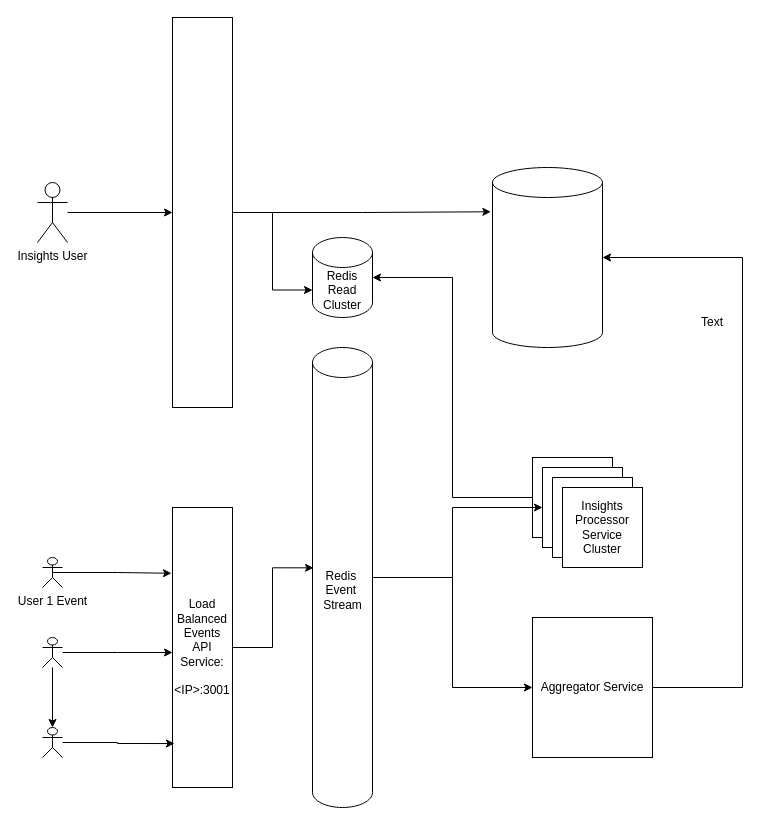
Image size: 768x825. Some labels were removed from this diagram. The shapes that lost their labels are listed below. From the top down, each one's centre as x and y in pixels, then its label:
At point (202, 212): "Load Balanced Insights & Historical Insights Service".
At point (547, 257): "MongoDb: Analytics Database".
At point (52, 652): "User 2 Event".
At point (52, 742): "User 3 Event".
